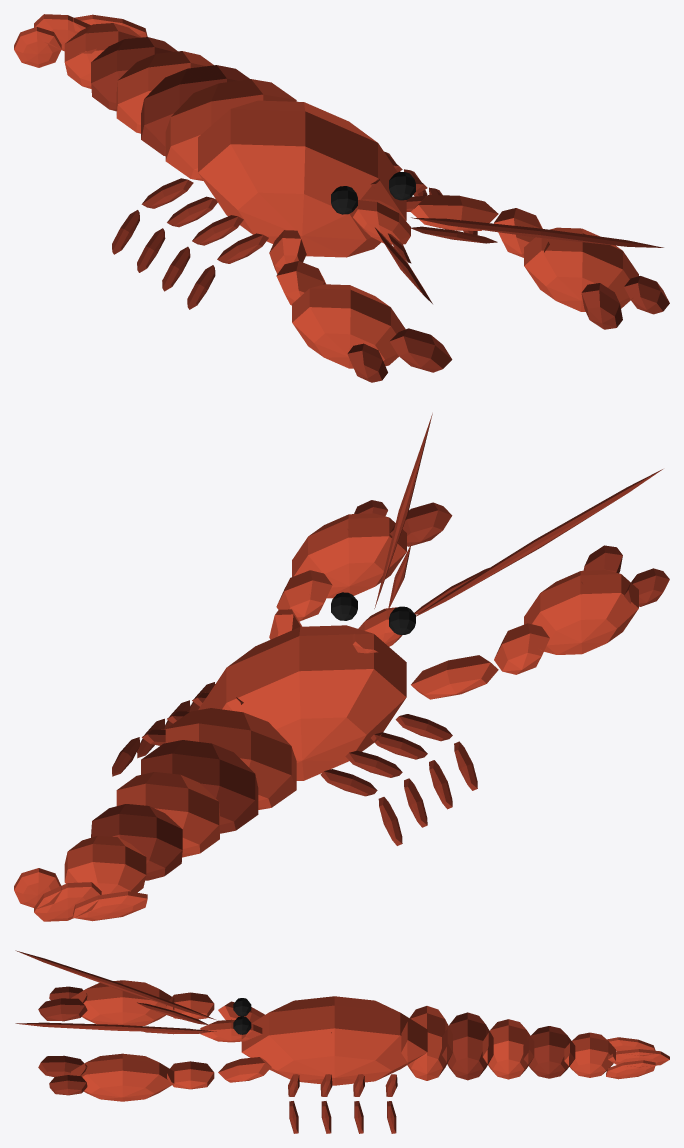
Rendered from krafta.glb.
The picture shows the model from 3 angles, top to bottom: view 1: azimuth 30°, elevation 25°; view 2: azimuth 150°, elevation 25°; view 3: azimuth 270°, elevation 25°; orthographic projection. The views are drawn at different scales.
Visible parts, largest first — view 1: krafta-egen; view 2: krafta-egen; view 3: krafta-egen.
Part boxes in pixels (bbox=[...]): krafta-egen: bbox=[14, 14, 669, 382]; krafta-egen: bbox=[14, 413, 669, 921]; krafta-egen: bbox=[15, 950, 669, 1133].
Bounding box in the file's own units: 0.8683 × 0.412 × 2.41.
